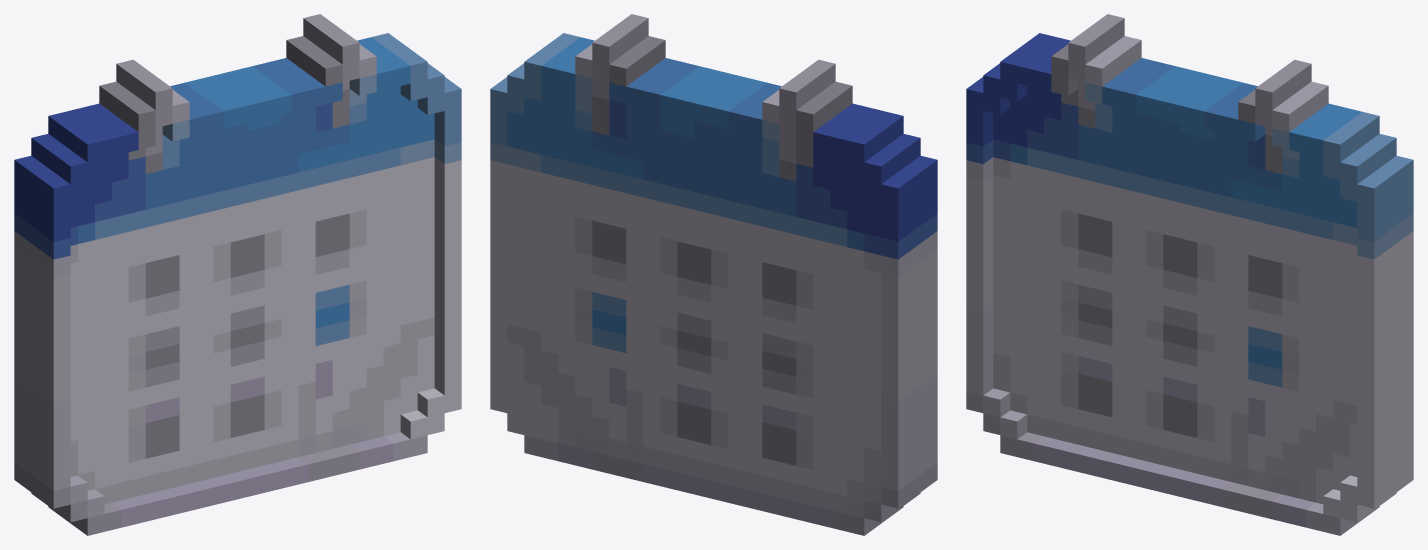
File: tear-off-calendar.glb
3 renders of one model, left to right at view 1: azimuth 30°, elevation 25°; view 2: azimuth 150°, elevation 25°; view 3: azimuth 330°, elevation 25°, orthographic.
Visible parts, largest first — view 1: prop; view 2: prop; view 3: prop.
Part boxes in pixels (x1,y1,x2,y2): prop: [14, 14, 461, 535]; prop: [490, 14, 937, 535]; prop: [966, 14, 1413, 535].
Size of the model in its own units: 16 by 16 by 2.67.
